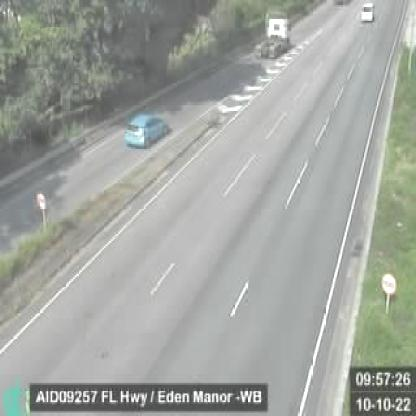Car: (123, 113, 170, 151), (360, 2, 374, 22)
Truck: (263, 16, 293, 60)
